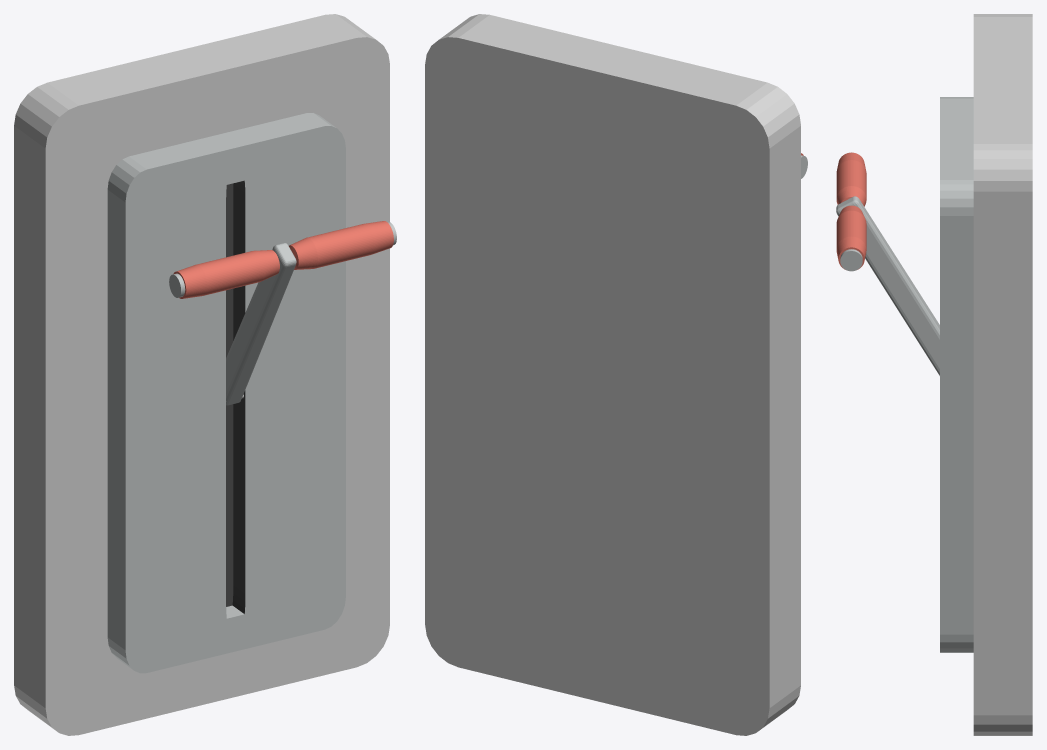
The model's file is Lever1.fbx.
The picture shows the model from 3 angles, left to right: view 1: azimuth 30°, elevation 25°; view 2: azimuth 150°, elevation 25°; view 3: azimuth 270°, elevation 25°; orthographic projection. The views are drawn at different scales.
Parts seen in each view (by area): view 1: Lever_Base1, Lever1; view 2: Lever_Base1; view 3: Lever_Base1, Lever1.
Part boxes in pixels (x1,y1,x2,y2): Lever_Base1: (14, 14, 389, 735); Lever1: (169, 221, 396, 405); Lever_Base1: (425, 14, 800, 735); Lever_Base1: (940, 14, 1032, 735); Lever1: (836, 152, 939, 375).
Bounding box in the file's own units: 126 × 220 × 66.42.
